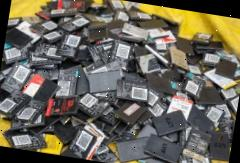electronic: (80, 64, 132, 98), (54, 4, 92, 48), (114, 18, 158, 53), (54, 30, 88, 68)
